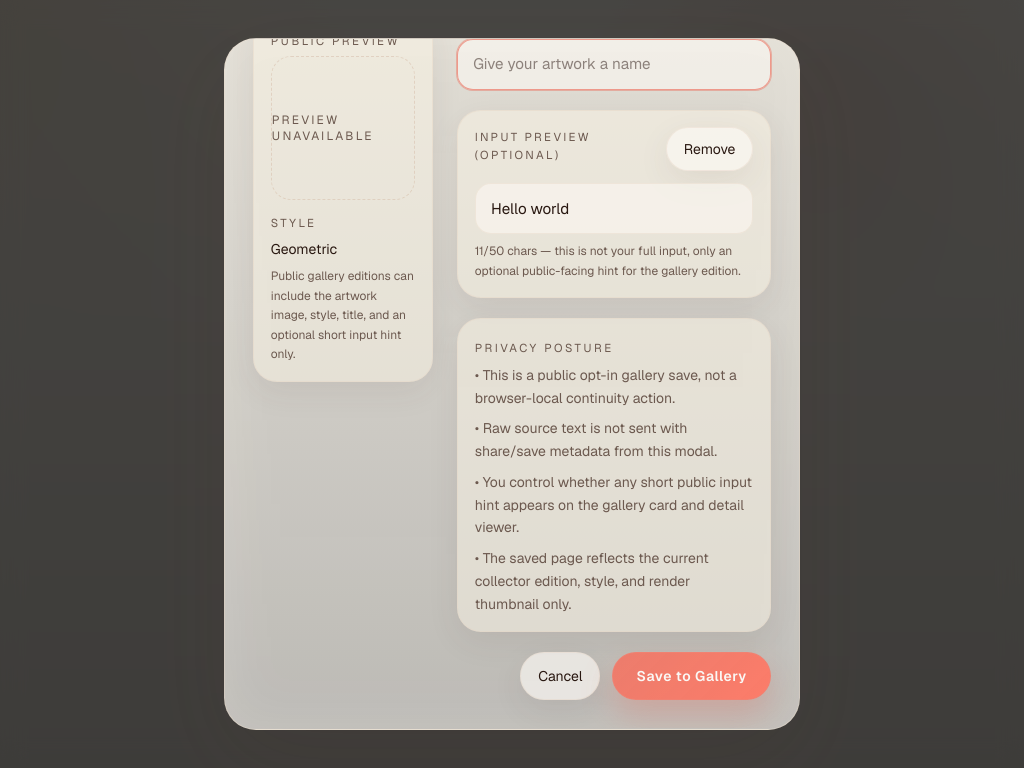
GAL-03: GallerySaveModal focus lifecycle and failure handling › keeps the modal open with a readable alert when the save response fails
(page scrolled)
Click the button "Save to Gallery": (692, 676) [612, 652, 771, 700]
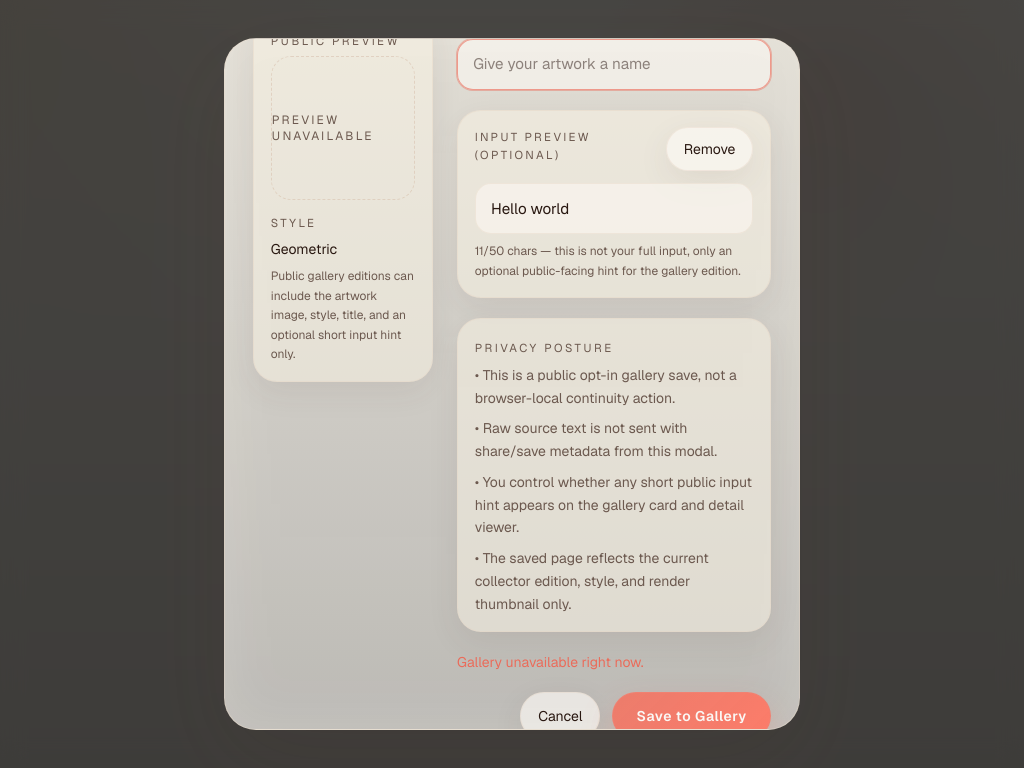
Check: the message "Gallery unavailable right now." is shown, box [457, 653, 644, 671]
